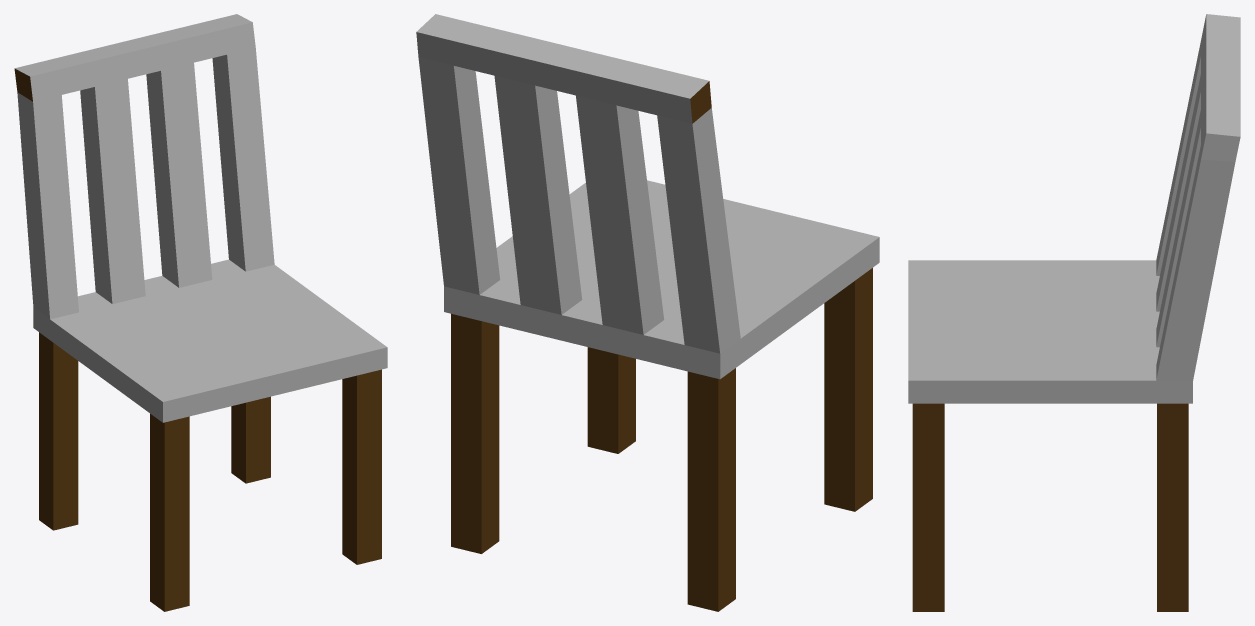
File: chair (1).fbx
3 renders of one model, left to right at view 1: azimuth 30°, elevation 25°; view 2: azimuth 150°, elevation 25°; view 3: azimuth 270°, elevation 25°, orthographic. The views are drawn at different scales.
Parts seen in each view (by area): view 1: Chair; view 2: Chair; view 3: Chair.
Part boxes in pixels (x1,y1,x2,y2): Chair: [14, 14, 387, 611]; Chair: [416, 14, 879, 611]; Chair: [908, 14, 1240, 611].
Bounding box in the file's own units: 201 × 373 × 233.
